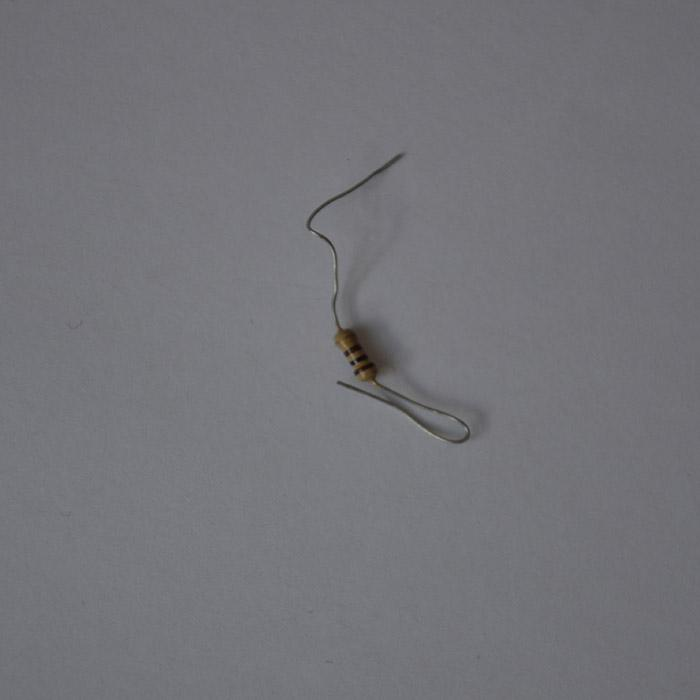resistor: (333, 326, 376, 383)
